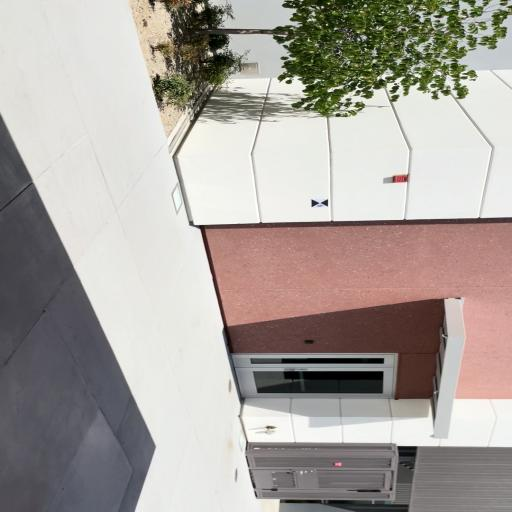target6: (311, 198, 328, 208)
